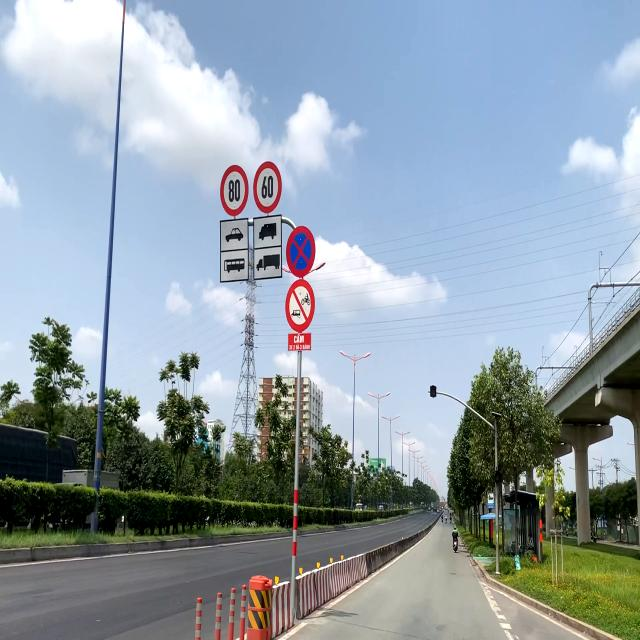P.127: (252, 161, 282, 214), (220, 164, 249, 217)
P.130: (286, 225, 316, 277)
